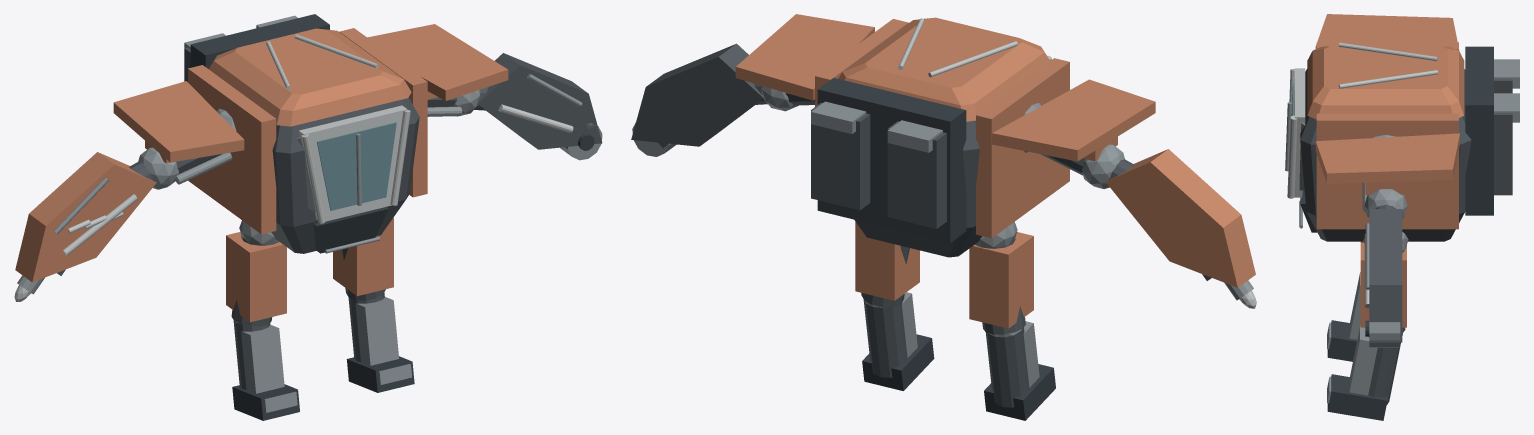
File: imp_orange_mech.glb
3 views of the same model, side by side, from view 1: azimuth 30°, elevation 25°; view 2: azimuth 150°, elevation 25°; view 3: azimuth 270°, elevation 25° (orthographic). The views are drawn at different scales.
Parts seen in each view (by area): view 1: roof_armor, wing_guard_left, side_armor_-1, shoulder_wing_left, wing_guard_right, main_chassis, shoulder_wing_right, cockpit_glass, thigh_armor_left, cockpit_surround, thigh_armor_right, side_armor_1 (+14 smaller); view 2: roof_armor, wing_guard_left, rear_engine_block, side_armor_-1, wing_guard_right, shoulder_wing_left, shoulder_wing_right, thigh_armor_left, rear_engine_casing_1, rear_engine_casing_-1, thigh_armor_right, main_chassis (+10 smaller); view 3: roof_armor, side_armor_1, shoulder_wing_right, rear_engine_block, wing_guard_right, main_chassis, shoulder_wing_left, foot_right, rear_engine_casing_1, shin_armor_right, shin_right, cockpit_surround (+15 smaller).
Part boxes in pixels (x1,y1,x2,y2): roof_armor: (209, 28, 411, 126); wing_guard_left: (15, 152, 156, 282); side_armor_-1: (188, 65, 276, 234); shoulder_wing_left: (113, 81, 244, 162); wing_guard_right: (478, 53, 602, 149); main_chassis: (271, 97, 419, 253); shoulder_wing_right: (367, 24, 508, 100); cockpit_glass: (317, 122, 396, 210); thigh_armor_left: (226, 232, 286, 322); cockpit_surround: (299, 105, 407, 221); thigh_armor_right: (333, 217, 393, 296); side_armor_1: (339, 28, 427, 197); roof_armor: (838, 17, 1049, 121); wing_guard_left: (1105, 149, 1255, 287); rear_engine_block: (817, 78, 966, 242); side_armor_-1: (976, 58, 1069, 238); wing_guard_right: (631, 43, 763, 146); shoulder_wing_left: (992, 79, 1155, 161); shoulder_wing_right: (735, 14, 874, 100); thigh_armor_left: (969, 232, 1033, 328); rear_engine_casing_1: (811, 102, 870, 210); rear_engine_casing_-1: (887, 121, 946, 228); thigh_armor_right: (855, 221, 919, 300); main_chassis: (854, 120, 981, 257); roof_armor: (1307, 46, 1464, 119); side_armor_1: (1316, 113, 1458, 229); shoulder_wing_right: (1315, 133, 1459, 183); rear_engine_block: (1465, 46, 1493, 215); wing_guard_right: (1369, 209, 1402, 342); main_chassis: (1300, 69, 1471, 241); shoulder_wing_left: (1315, 14, 1459, 50); foot_right: (1327, 374, 1387, 420); rear_engine_casing_1: (1494, 113, 1512, 195); shin_armor_right: (1349, 326, 1377, 395); shin_right: (1368, 333, 1402, 404); cockpit_surround: (1294, 68, 1305, 197).
Bounding box in the file's own units: 6.27 × 3.44 × 2.28.
